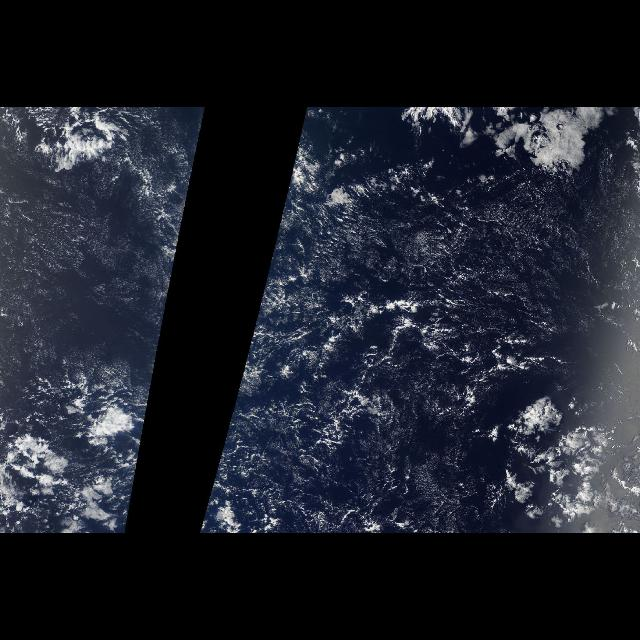Flower: (370, 308, 638, 530)
Sugar: (217, 172, 631, 518), (0, 167, 194, 467)
